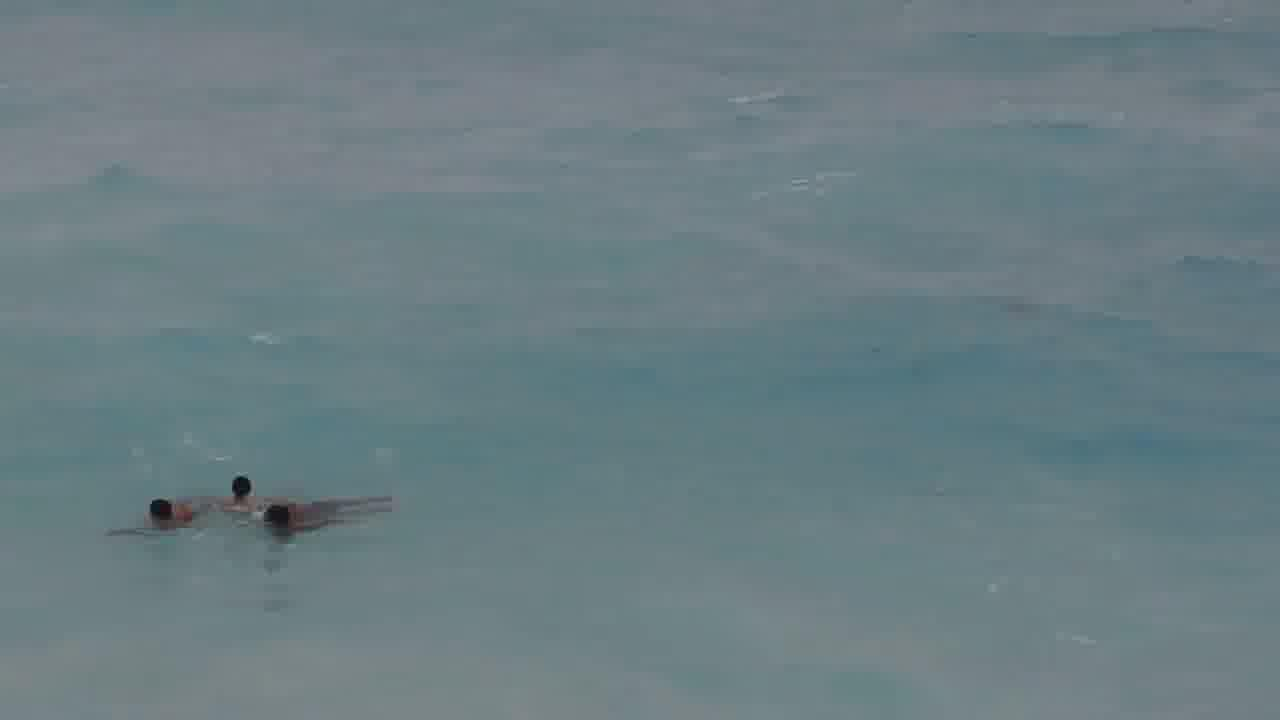swimmer: (255, 496, 397, 533), (110, 492, 201, 532), (193, 467, 274, 506)
